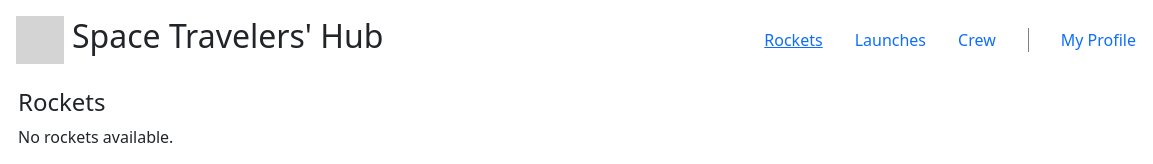
Test: treats an empty response as loaded without refetching on navigation
The image size is (1153, 164).
Check: the text "No rockets available." is shown, box x1=18 y1=126 x2=173 y2=148
Click the link "My Profile" at [1082, 40], box x1=1028 y1=28 x2=1136 y2=52
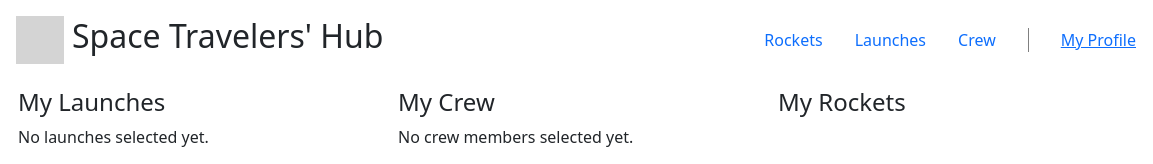
Click the link "Rockets" at [793, 40], box x1=764 y1=28 x2=823 y2=52
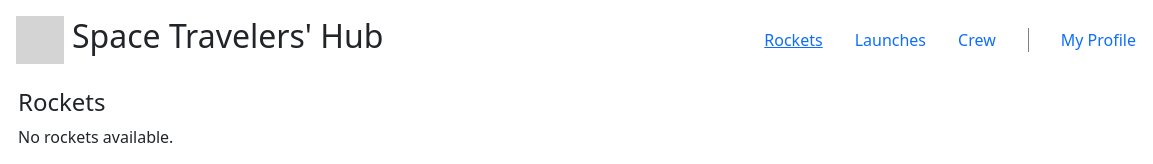
Check: the text "No rockets available." is shown, box x1=18 y1=126 x2=173 y2=148
